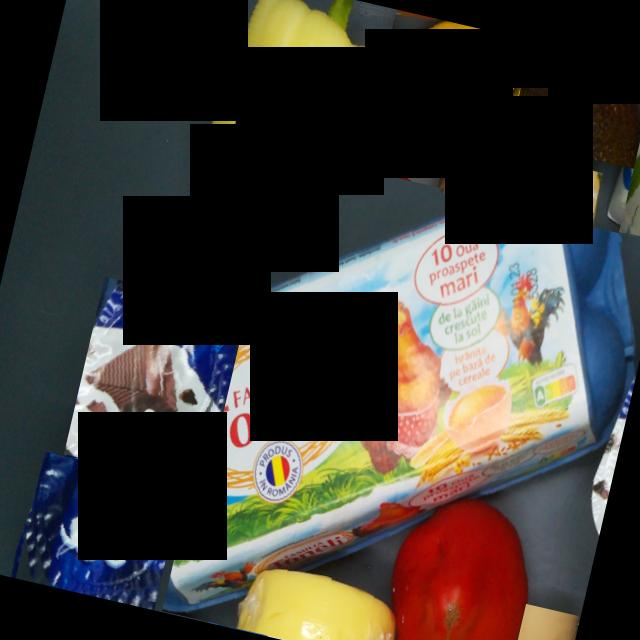avocado: (508, 40, 640, 168)
cheese: (421, 138, 603, 294)
eggs: (162, 152, 640, 640), (505, 603, 580, 640)
lemon: (371, 9, 538, 152)
milk: (617, 69, 640, 247)
pepper: (185, 0, 406, 269)
tomatoes: (284, 161, 458, 373)
yogurt: (60, 276, 246, 498), (15, 452, 184, 610)
